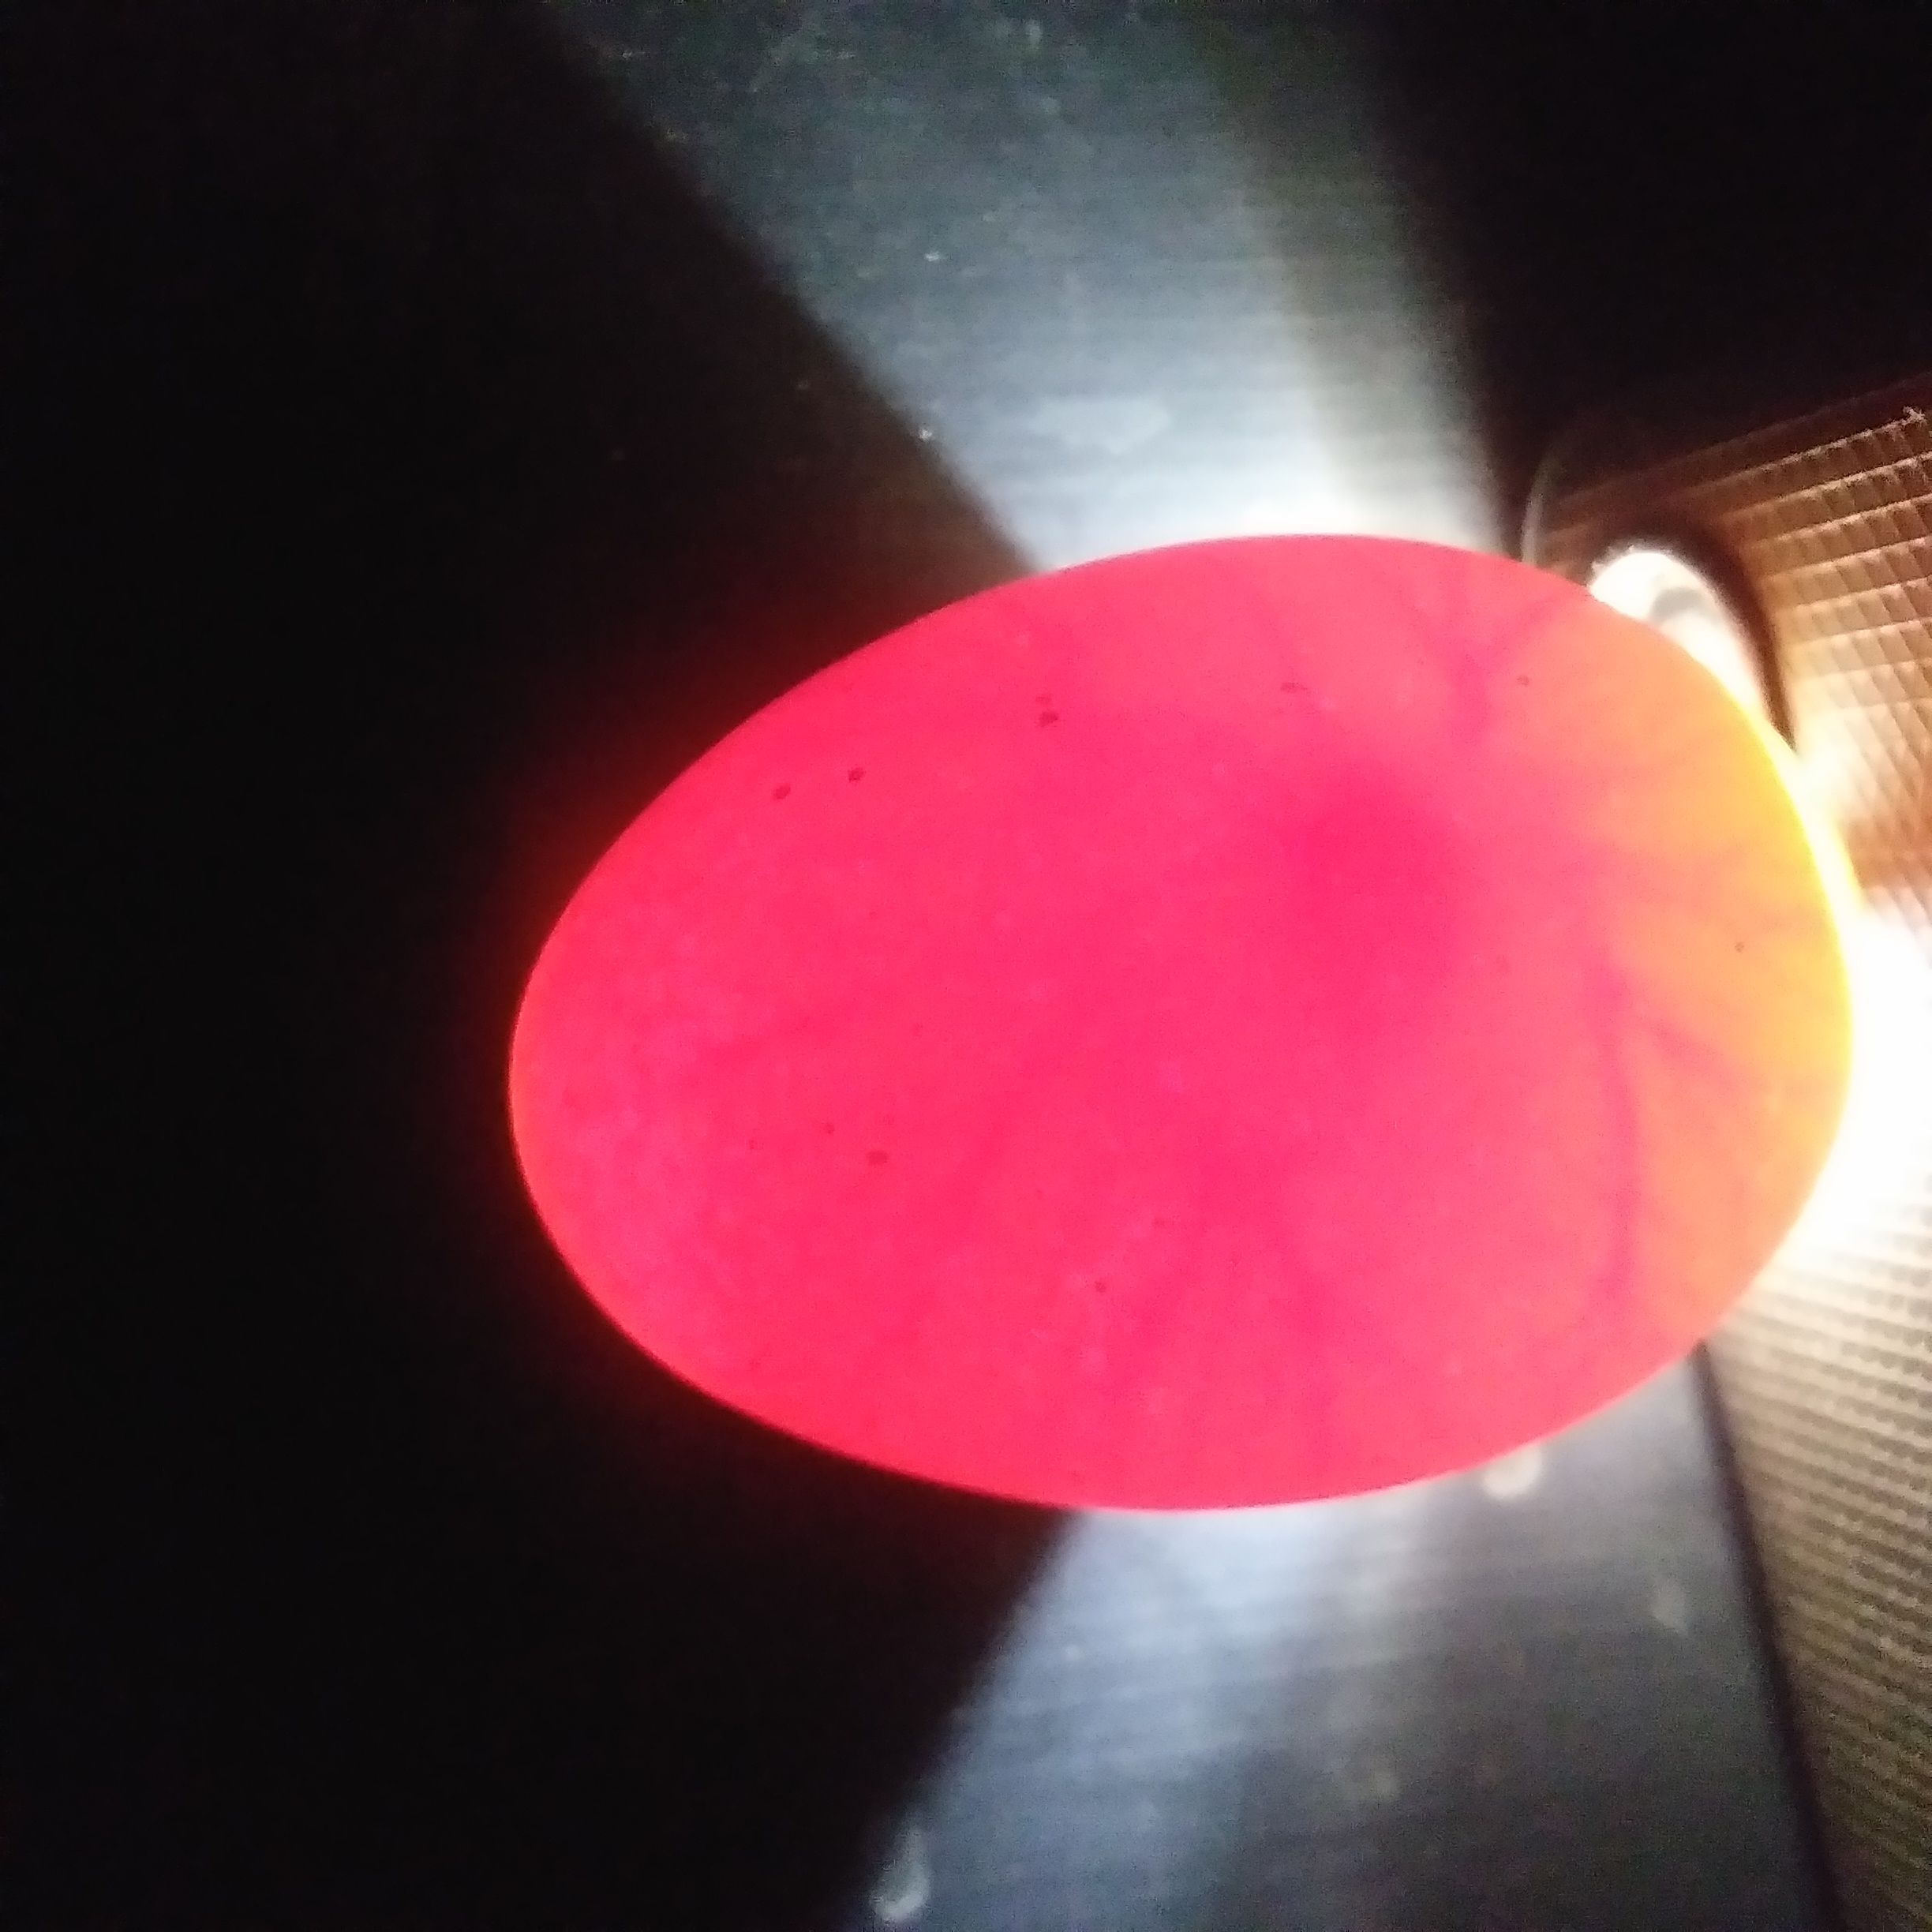bloodcell: (939, 1072, 1661, 1392), (1217, 584, 1552, 738)
embryo: (1316, 791, 1507, 1007)
